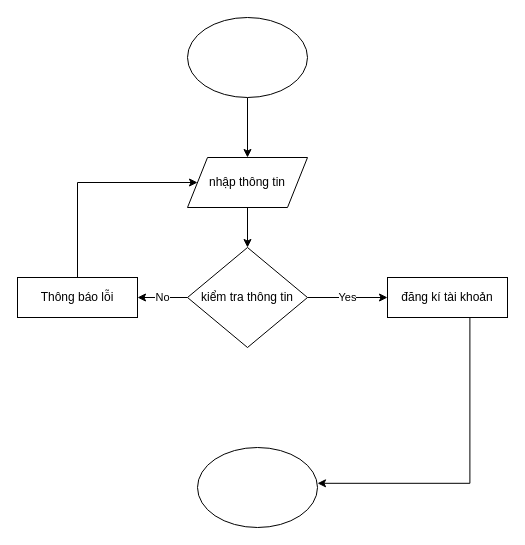
The diagram is 525 pixels wide and 545 high, and some of its shapes have lost their labels. Each missing label, with the centre of its shape:
"end" goes at pixel 257 487.
"start" goes at pixel 247 57.
